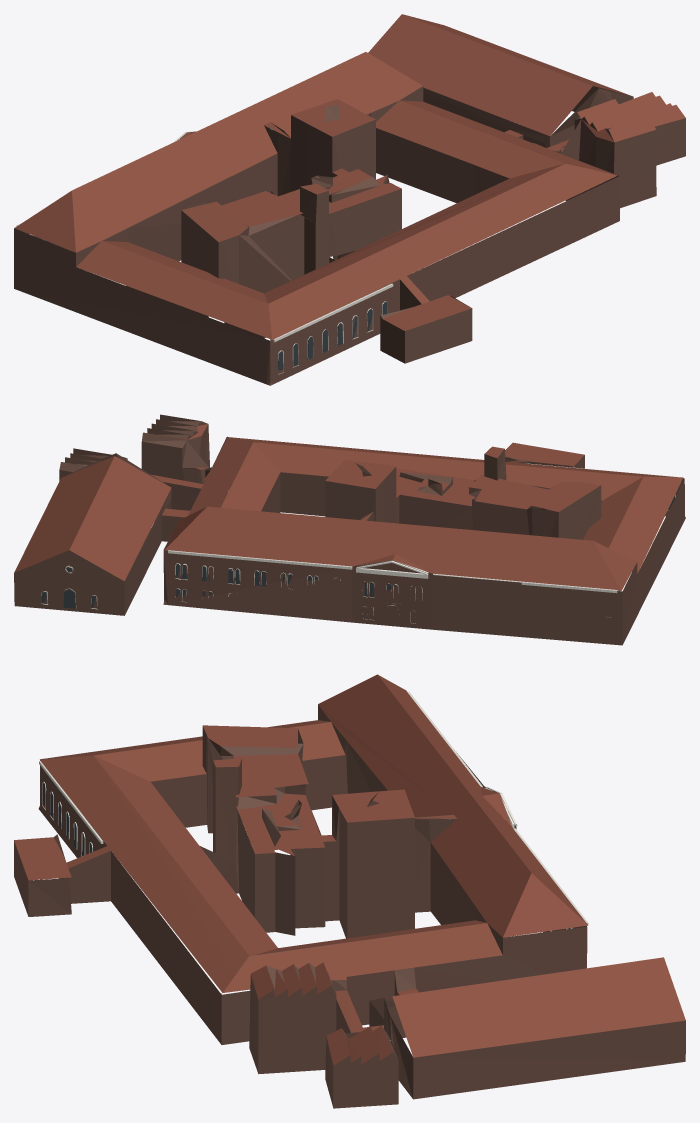
Rendered from rijksakademie.lod1.glb.
3 views of the same model, one above another, from view 1: azimuth 30°, elevation 25°; view 2: azimuth 150°, elevation 25°; view 3: azimuth 270°, elevation 25° (orthographic). The views are drawn at different scales.
Visible parts, largest first — view 1: rijksakademie; view 2: rijksakademie; view 3: rijksakademie.
Boxes of the visible parts, x1,y1,x2,y2 form: rijksakademie: (14, 14, 685, 385); rijksakademie: (14, 414, 685, 645); rijksakademie: (14, 674, 685, 1108).
Bounding box in the file's own units: 121 × 21.27 × 97.87.
